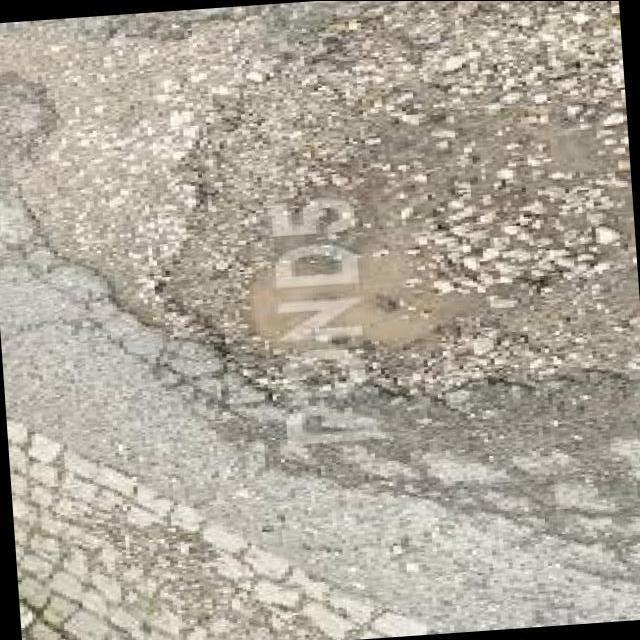pothole: (0, 4, 640, 388)
